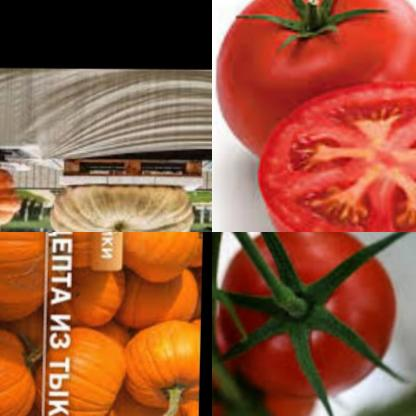pumpkin: (118, 311, 201, 416), (46, 323, 131, 416), (46, 182, 198, 232), (108, 265, 203, 334), (52, 257, 134, 334), (117, 232, 204, 285), (0, 232, 63, 303), (0, 323, 46, 416), (39, 232, 126, 275), (90, 396, 186, 416), (166, 391, 200, 416)
tomato: (215, 0, 416, 164), (215, 232, 404, 388), (256, 76, 416, 232), (212, 357, 318, 416)
